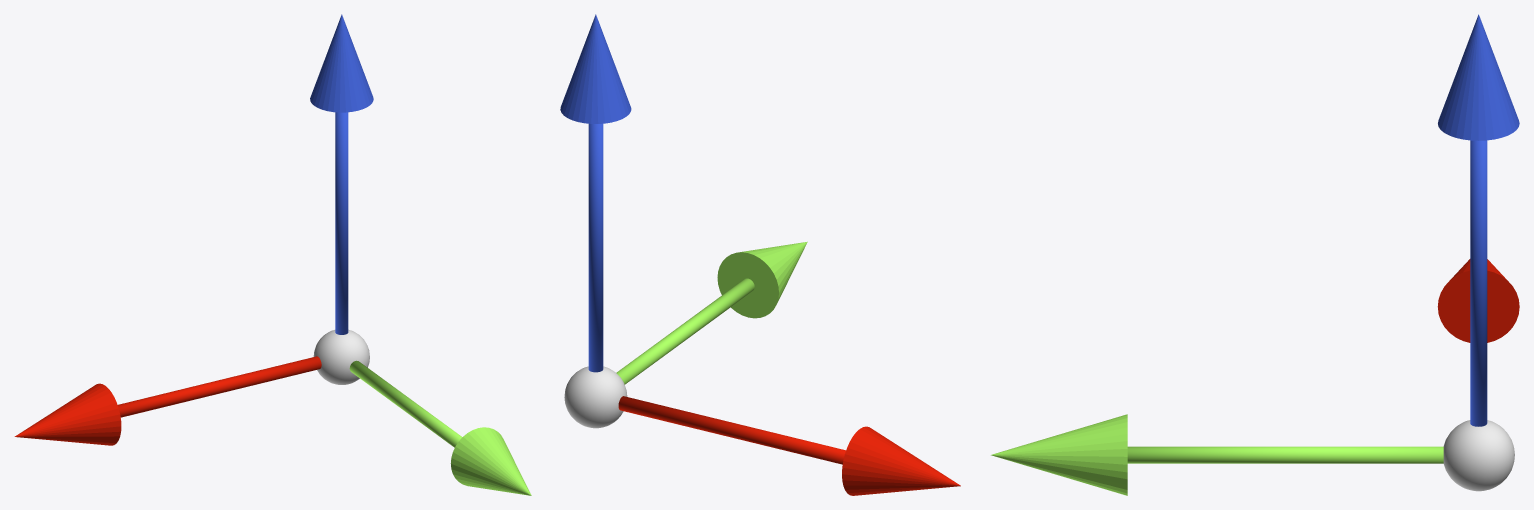
Rendered from gizmoo.glb.
The picture shows the model from 3 angles, left to right: view 1: azimuth 30°, elevation 25°; view 2: azimuth 150°, elevation 25°; view 3: azimuth 270°, elevation 25°; orthographic projection. The views are drawn at different scales.
Parts seen in each view (by area): view 1: Cone; view 2: Cone; view 3: Cone.
Boxes of the visible parts, x1,y1,x2,y2 form: Cone: (14,14,531,495); Cone: (560,14,960,495); Cone: (991,14,1519,495).
Size of the model in its own units: 2.42 by 2.42 by 2.43.
